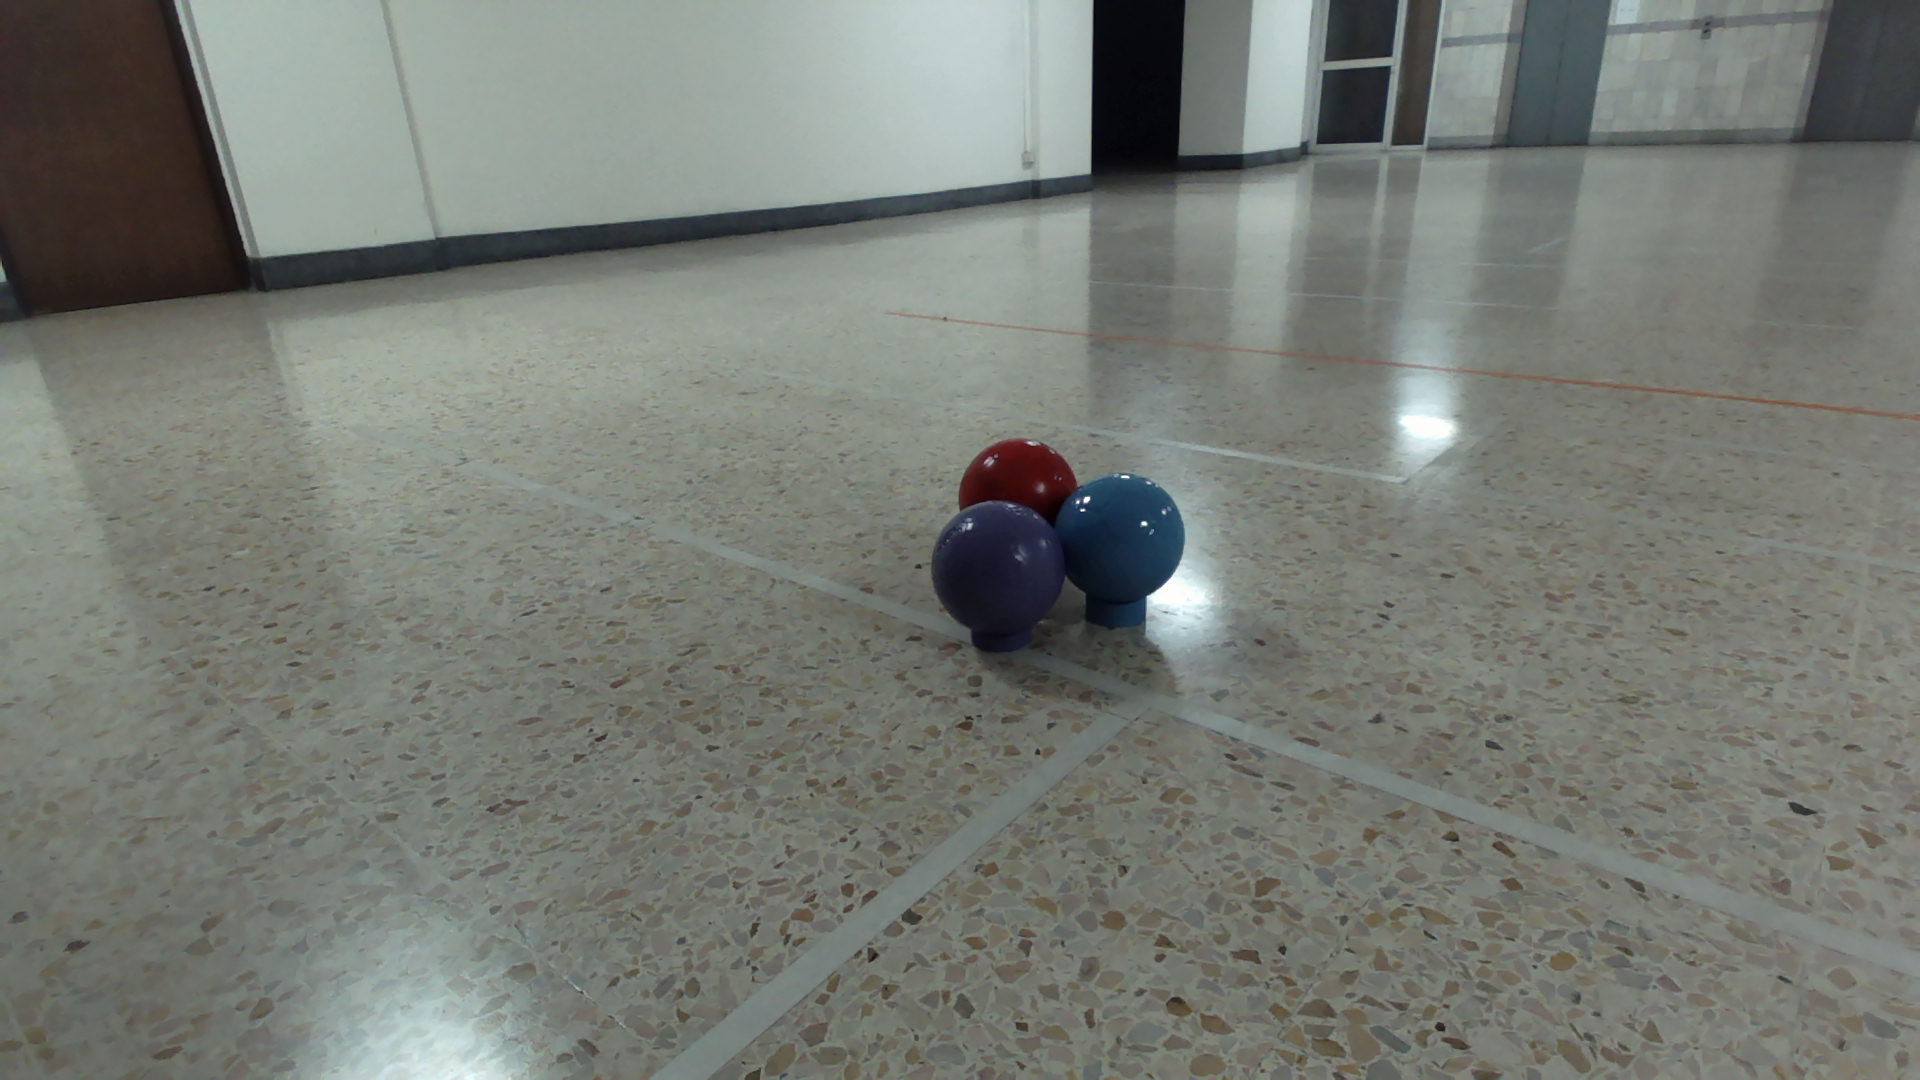Blue ball: (1054, 471, 1187, 603)
Purple ball: (927, 498, 1068, 636)
Red ball: (955, 436, 1080, 517)
